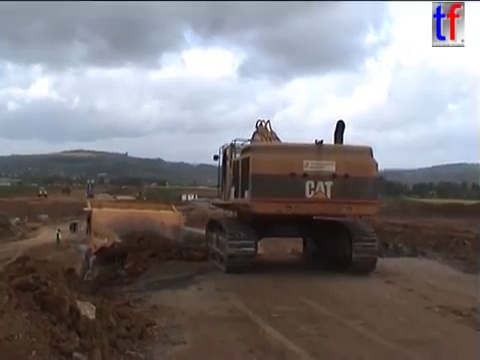excavator: (201, 116, 382, 277)
truck: (68, 198, 237, 293), (107, 198, 188, 234), (60, 184, 72, 196), (36, 186, 47, 198)
worker: (53, 226, 63, 251)
